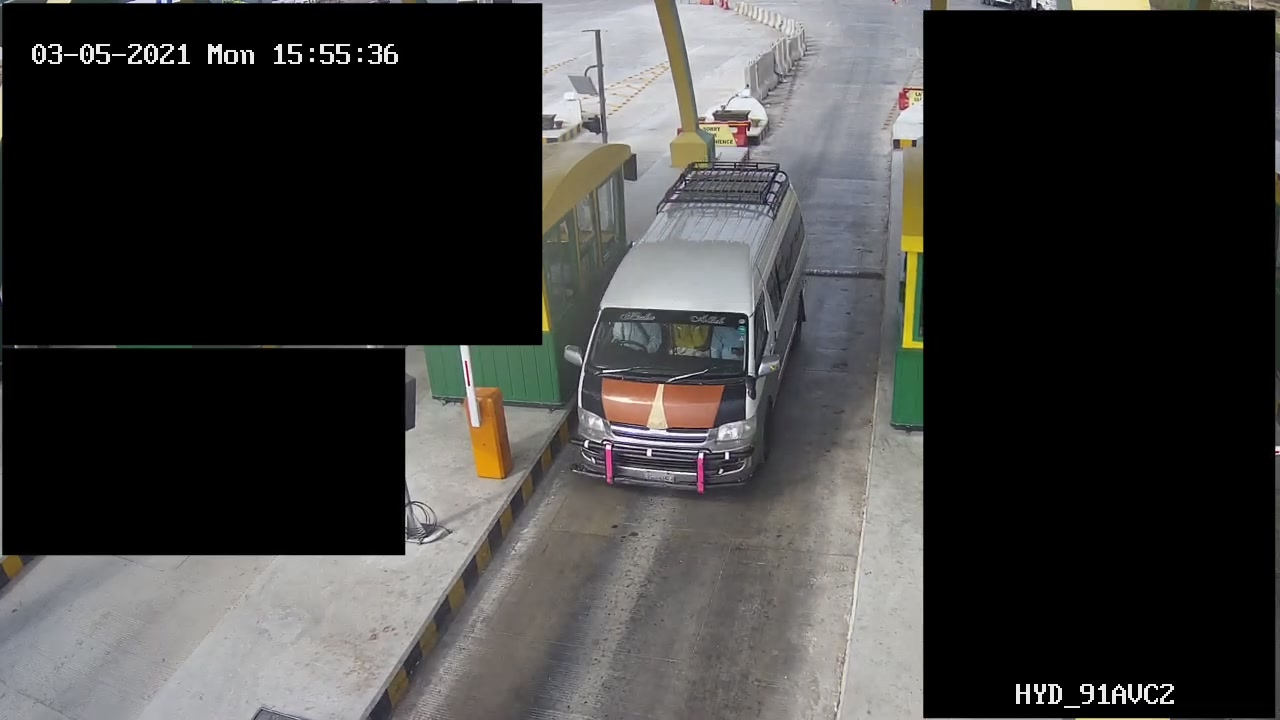F2: (568, 143, 833, 492)
